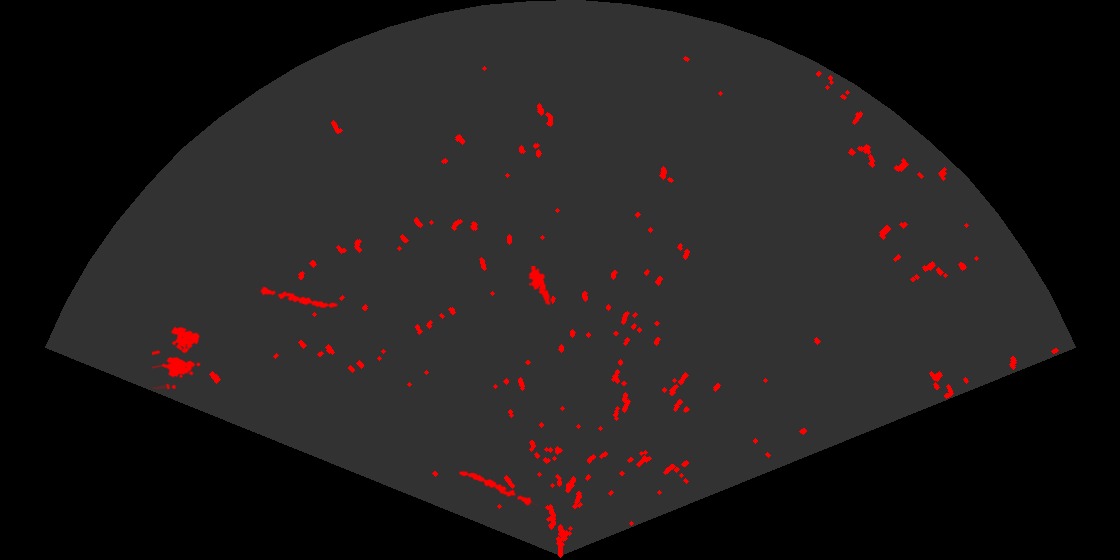cage: (152, 325, 202, 389)
chain: (457, 469, 539, 508), (255, 285, 339, 310)
frogman: (527, 266, 552, 305)
